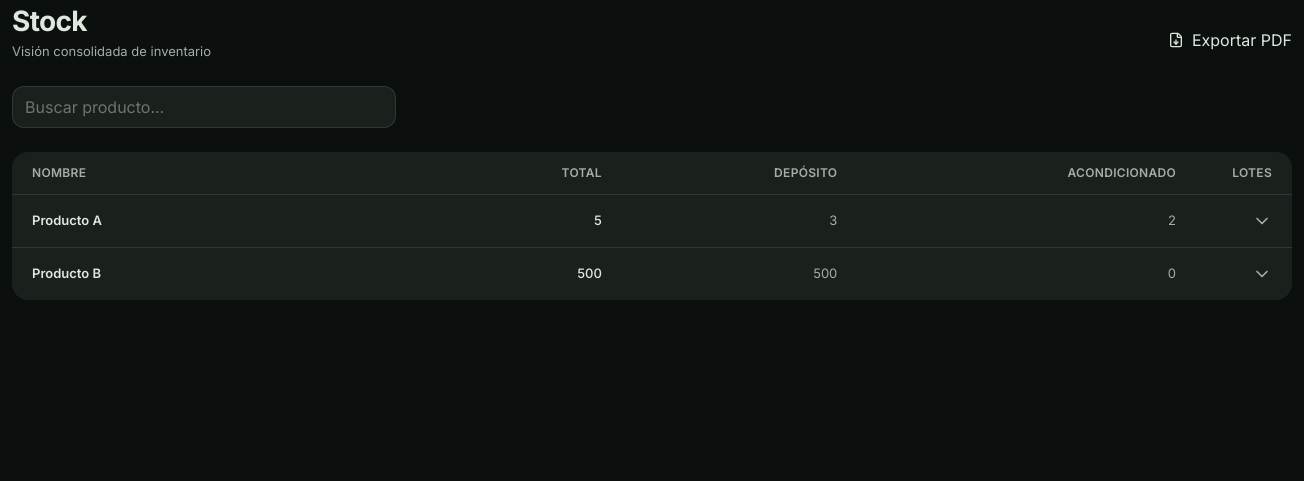
StockPage › renders operational lots and never restores a zero lot from the UI
What coordinates should you click on to do the following:
click the text "Producto A"
I would click on:
 (67, 220)
Its box is [12, 194, 439, 247].
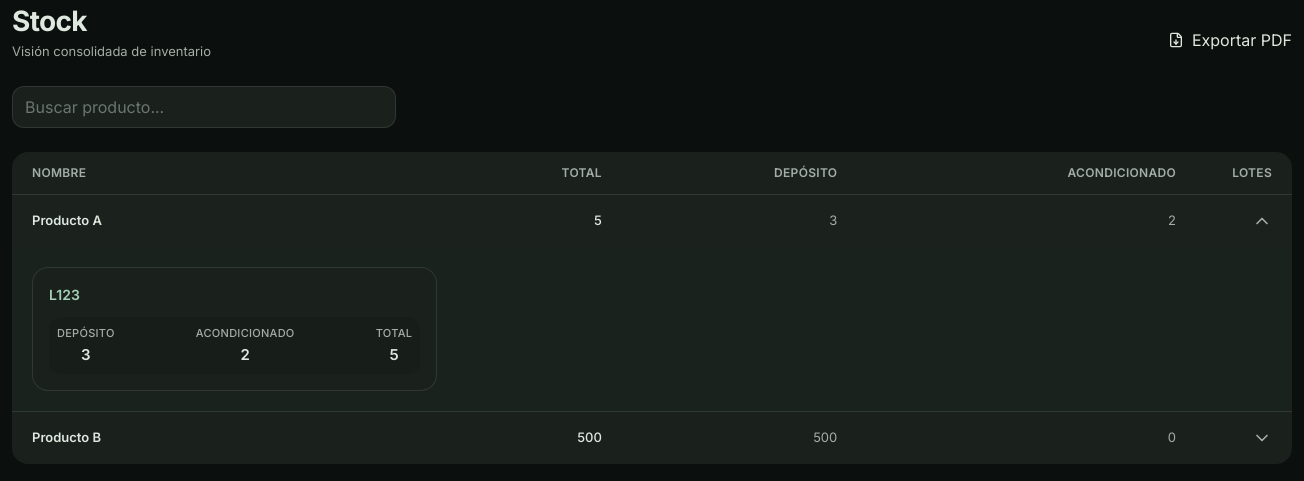
Check: the column heading "Depósito" is shown, box [622, 152, 857, 194]
Check: the text "L123" is shown, box [49, 286, 80, 302]
